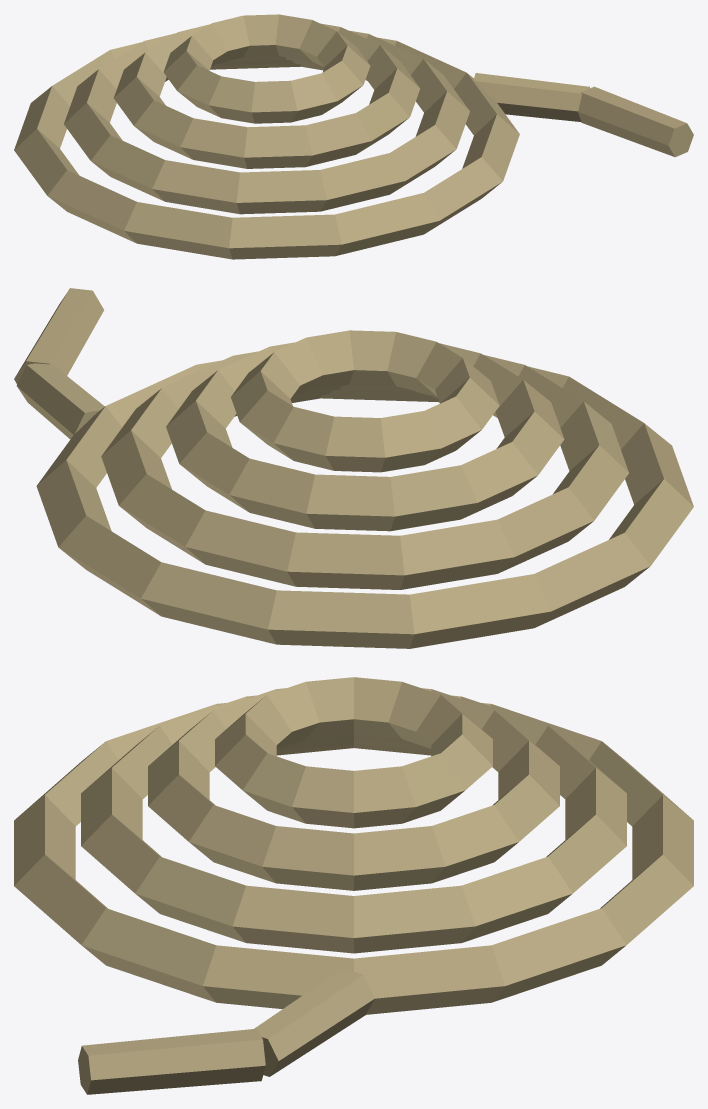
Rendered from map-exclusive-v3__shore_12.glb.
3 renders of one model, top to bottom at view 1: azimuth 30°, elevation 25°; view 2: azimuth 150°, elevation 25°; view 3: azimuth 270°, elevation 25°, orthographic. The views are drawn at different scales.
Parts seen in each view (by area): view 1: shore_12; view 2: shore_12; view 3: shore_12.
Boxes of the visible parts, left/top/right/bottom form: shore_12: left=14, top=14, right=693, bottom=259; shore_12: left=14, top=288, right=693, bottom=648; shore_12: left=14, top=677, right=693, bottom=1094.
Bounding box in the file's own units: 1.66 × 0.3333 × 1.29.
